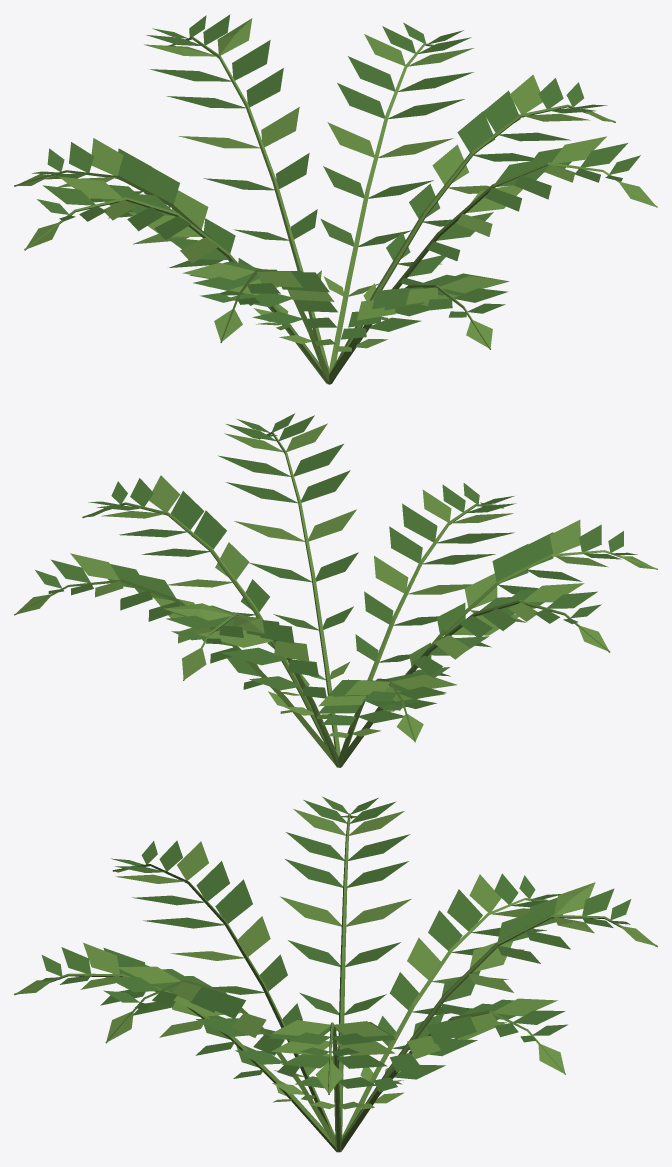
The model's file is fern_lod1.gltf.
3 renders of one model, top to bottom at view 1: azimuth 30°, elevation 25°; view 2: azimuth 150°, elevation 25°; view 3: azimuth 270°, elevation 25°, orthographic. The views are drawn at different scales.
Visible parts, largest first — view 1: fern_original_lod1; view 2: fern_original_lod1; view 3: fern_original_lod1.
Boxes of the visible parts, box(x1,y1,x2,y2) form: fern_original_lod1: box(14, 14, 657, 384); fern_original_lod1: box(14, 413, 657, 767); fern_original_lod1: box(14, 796, 657, 1152).
Size of the model in its own units: 1.05 by 0.44 by 1.05.
